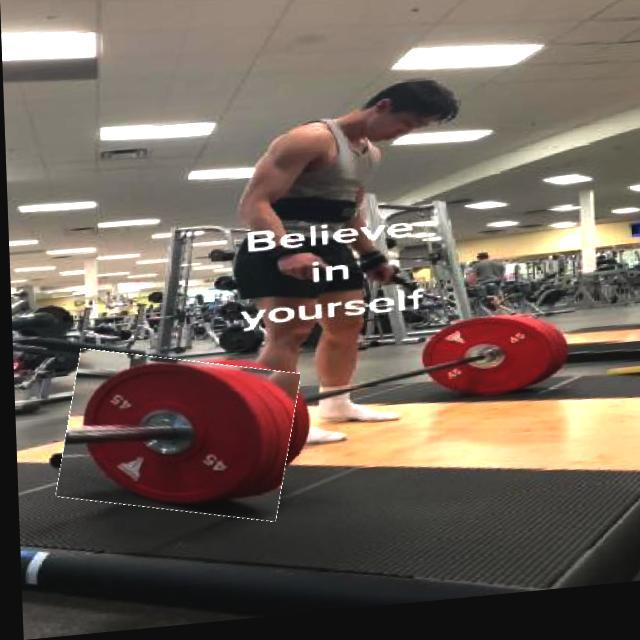barbell: (55, 346, 296, 533)
